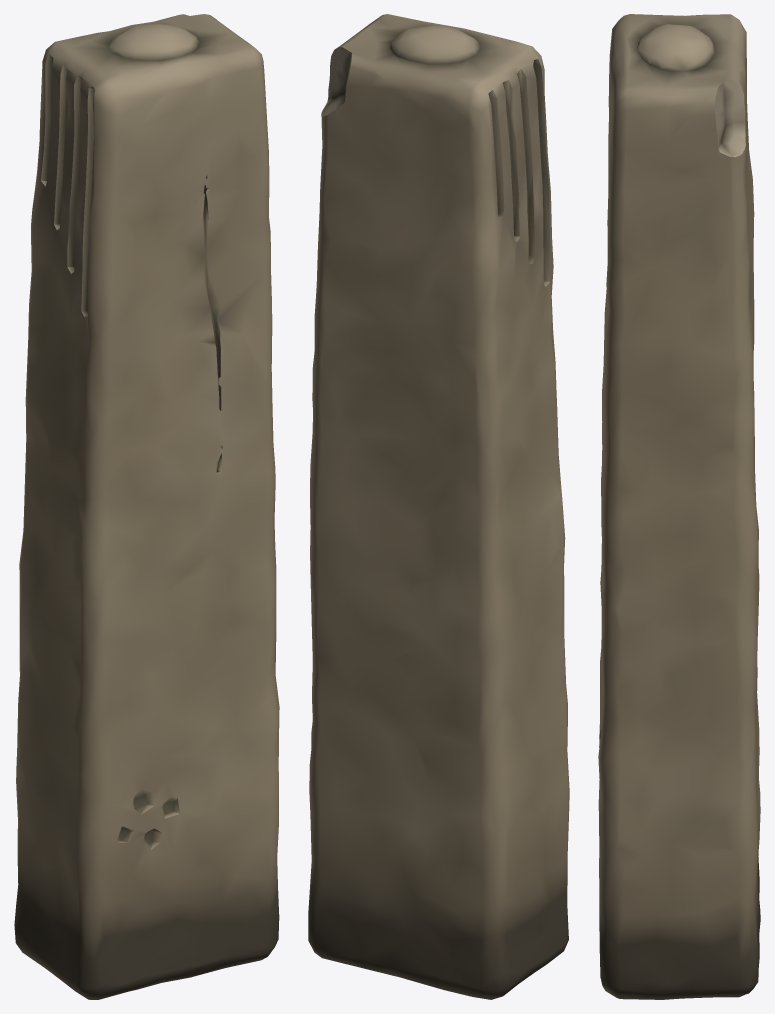
Rendered from lm_upright.glb.
3 views of the same model, side by side, from view 1: azimuth 30°, elevation 25°; view 2: azimuth 150°, elevation 25°; view 3: azimuth 270°, elevation 25° (orthographic).
Visible parts, largest first — view 1: lm_upright_LOD0; view 2: lm_upright_LOD0; view 3: lm_upright_LOD0.
Boxes of the visible parts, x1=… form: lm_upright_LOD0: x1=14, y1=14, x2=279, y2=999; lm_upright_LOD0: x1=308, y1=14, x2=569, y2=999; lm_upright_LOD0: x1=598, y1=14, x2=760, y2=999.
Size of what is drawn, in the model's own units: 1.63 by 7.13 by 1.13.
